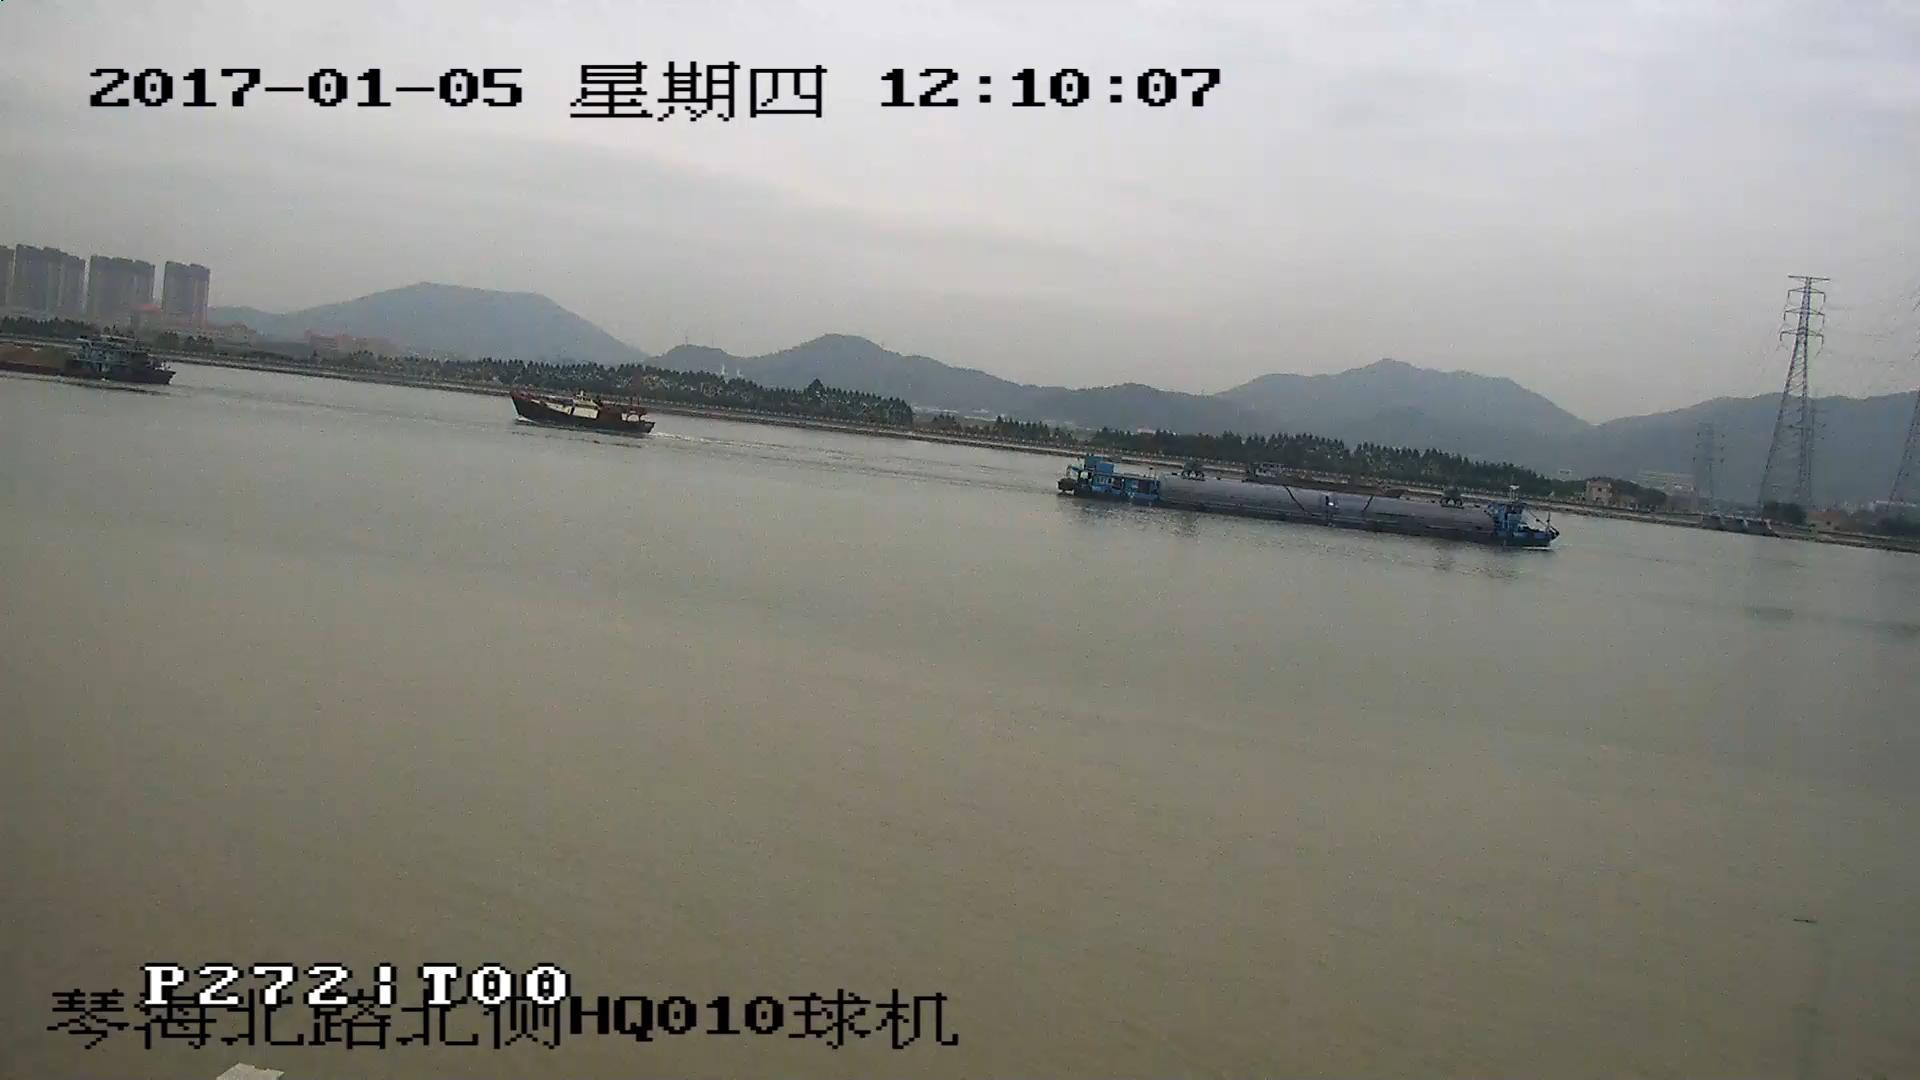bulk cargo carrier: (1060, 451, 1560, 548)
fishing boat: (511, 385, 653, 436)
ore carrier: (1, 334, 175, 392)
